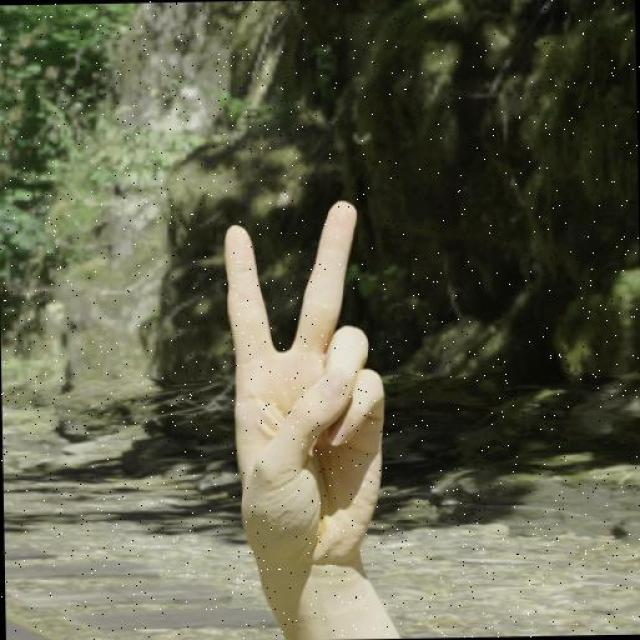V: (220, 192, 390, 582)
